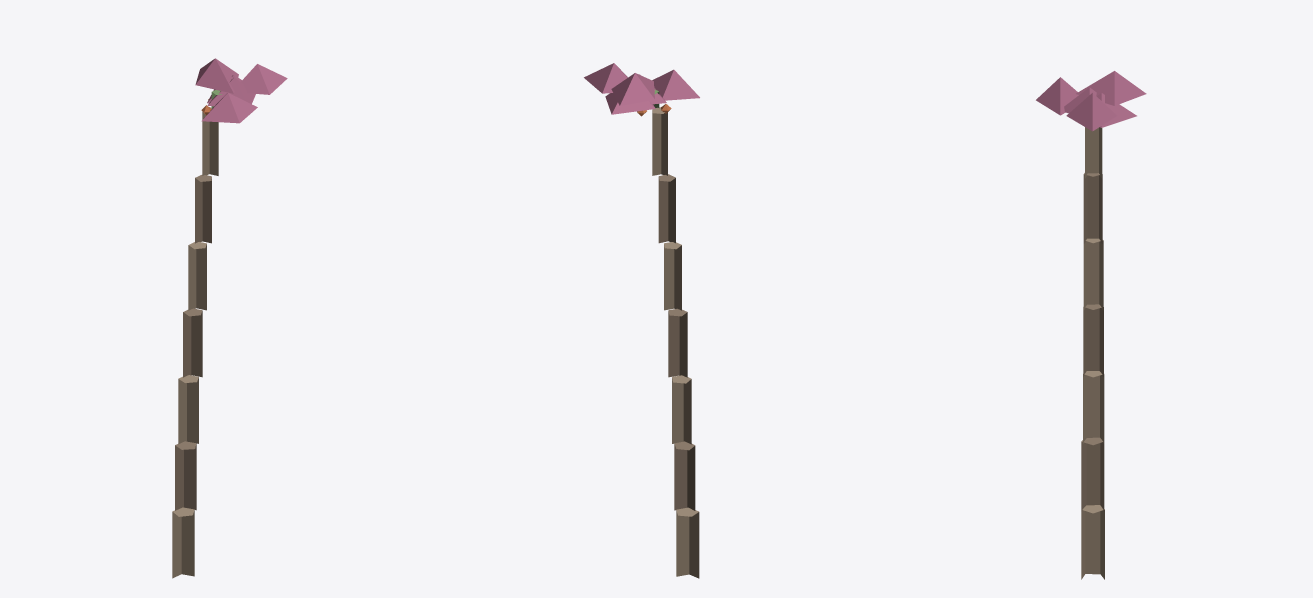
Rendered from tree.trop.betel_palm__bloom.glb.
The picture shows the model from 3 angles, left to right: view 1: azimuth 30°, elevation 25°; view 2: azimuth 150°, elevation 25°; view 3: azimuth 270°, elevation 25°; orthographic projection. The views are drawn at different scales.
Visible parts, largest first — view 1: tree.trop.betel_palm__bloom; view 2: tree.trop.betel_palm__bloom; view 3: tree.trop.betel_palm__bloom.
Boxes of the visible parts, left/top/right/bottom form: tree.trop.betel_palm__bloom: left=172, top=58, right=287, bottom=578; tree.trop.betel_palm__bloom: left=584, top=63, right=699, bottom=578; tree.trop.betel_palm__bloom: left=1036, top=71, right=1146, bottom=579.
Size of the model in its own units: 6.6 by 8.97 by 6.49.
